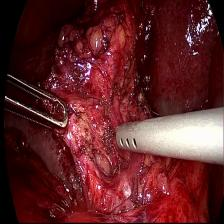Grasper: (4, 72, 70, 132)
Irrigator: (115, 116, 158, 160)
